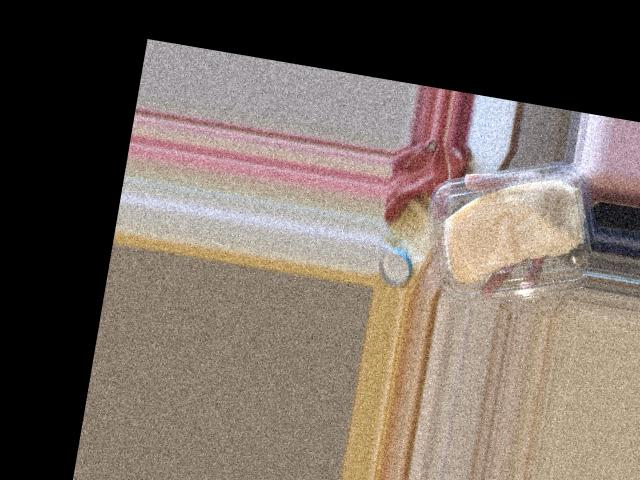cheese: (412, 150, 604, 317)
